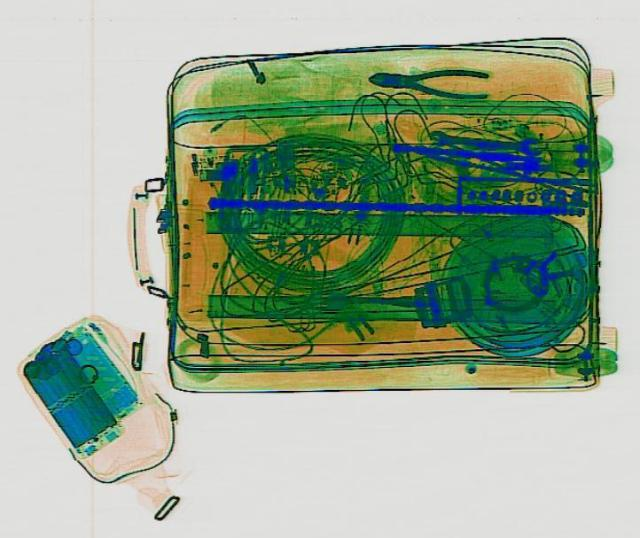Pliers: (365, 61, 489, 99)
Wrench: (428, 126, 540, 153)
